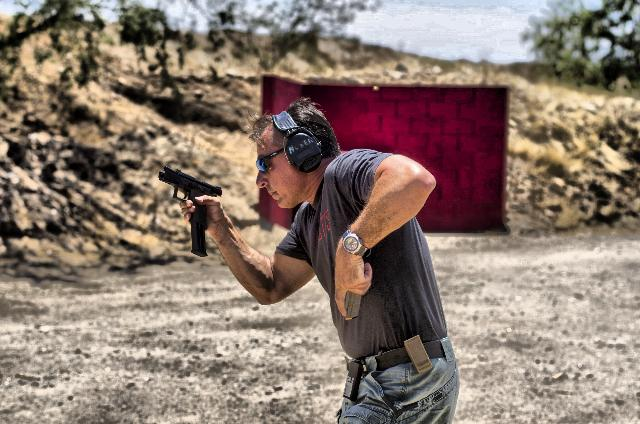pistol: (156, 164, 222, 228)
